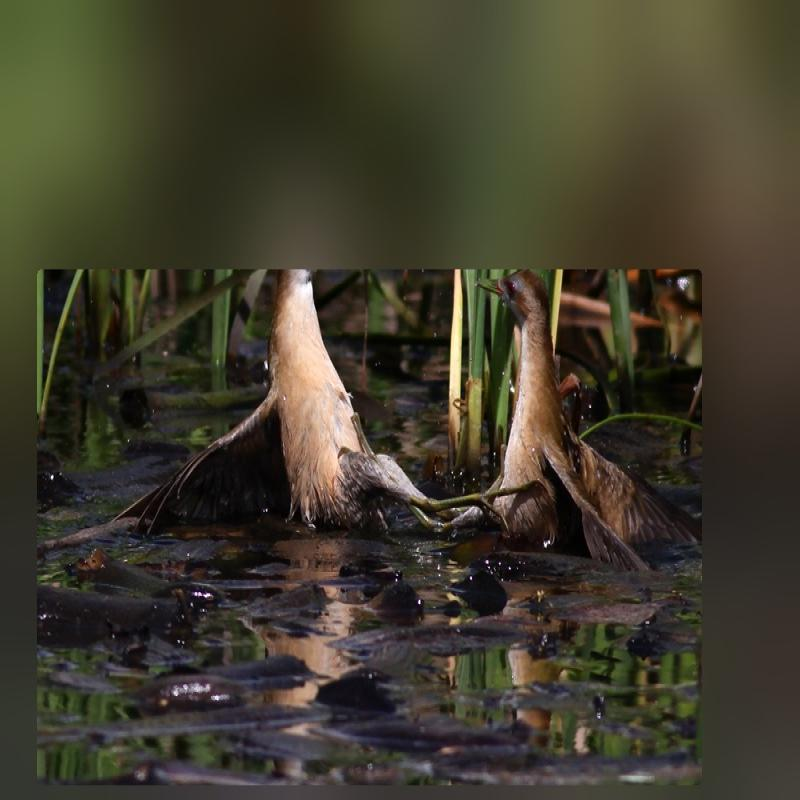little crake: (98, 267, 443, 562), (443, 263, 683, 573)
